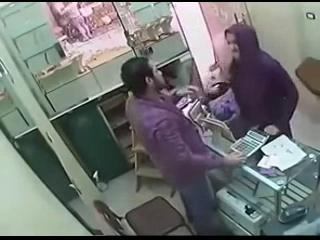Normal: (120, 56, 247, 234), (223, 23, 300, 139), (93, 196, 195, 236), (229, 128, 270, 158)
